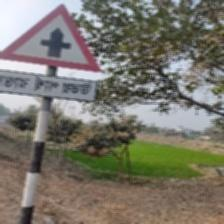Crossroad: (0, 2, 104, 106)
